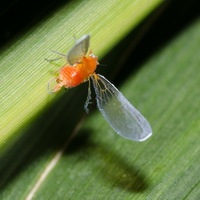insect: (48, 34, 151, 140)
